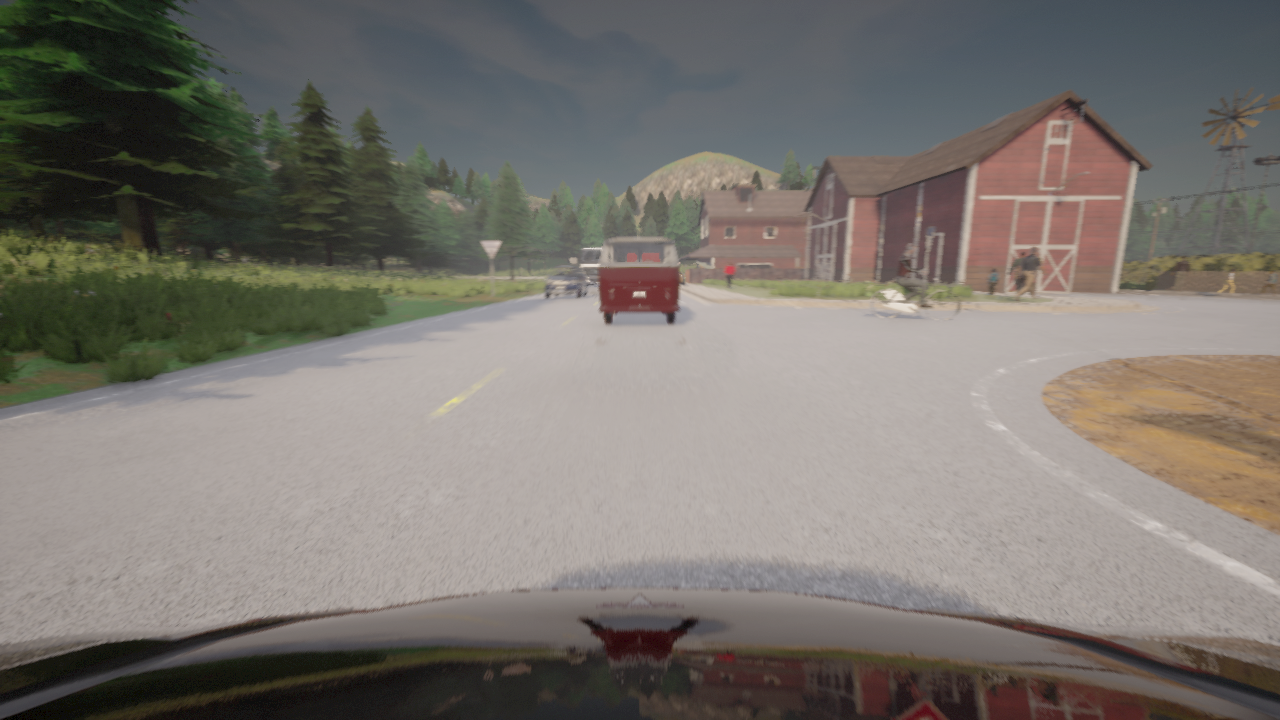cyclist: (0, 588, 1279, 719), (599, 237, 679, 324), (871, 272, 960, 321), (544, 266, 587, 299), (577, 247, 603, 285), (679, 271, 684, 284)
pedestrian: (1013, 247, 1046, 301), (1009, 251, 1025, 298), (1172, 255, 1190, 291), (1216, 269, 1235, 295), (1259, 270, 1277, 295), (723, 262, 734, 288), (988, 269, 998, 294)
